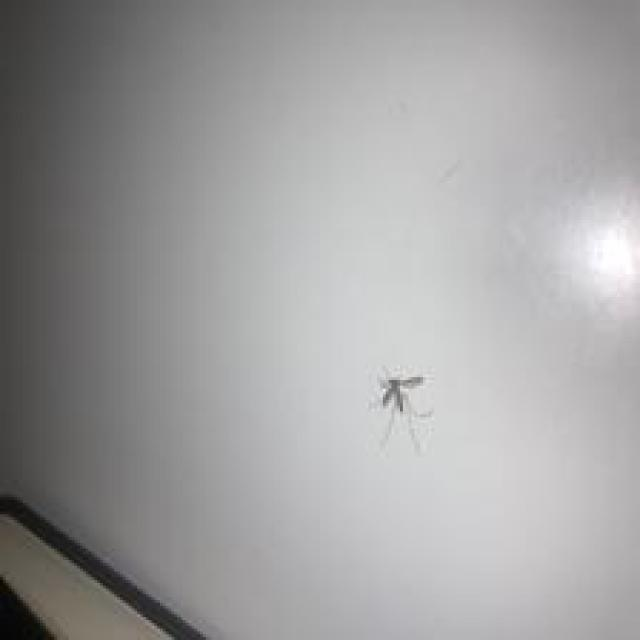Culex: (369, 366, 434, 454)
